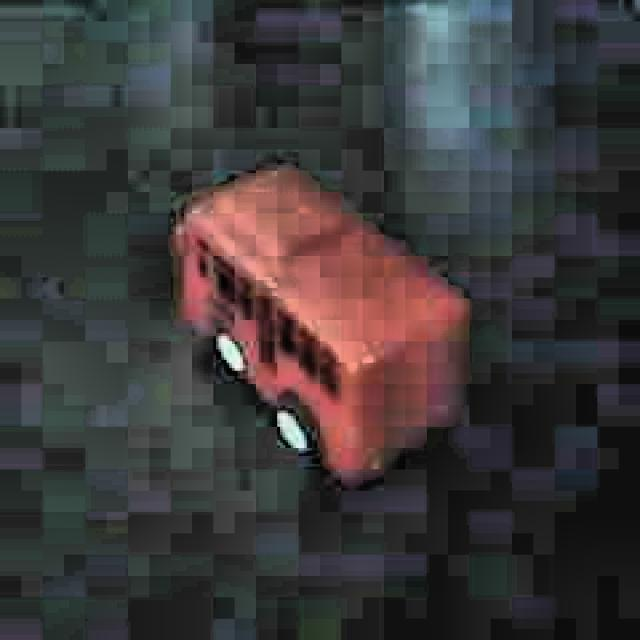bus: (160, 154, 472, 488)
